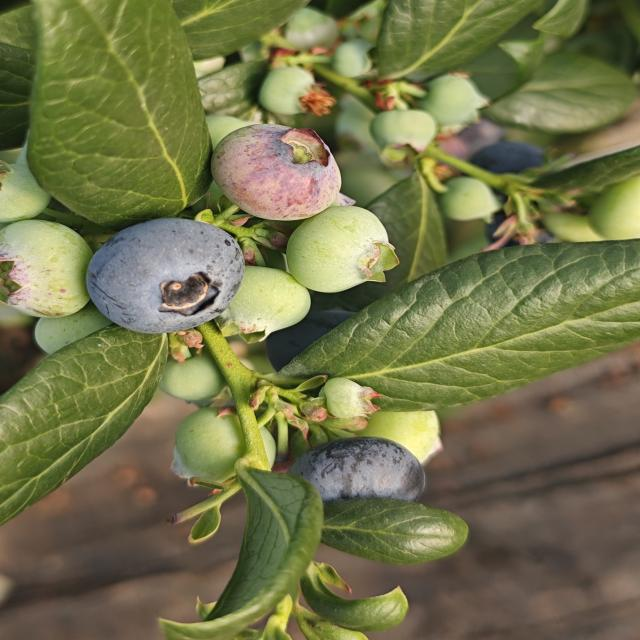ripe: (83, 216, 248, 336), (261, 296, 394, 376), (284, 435, 429, 505), (462, 130, 558, 207)
